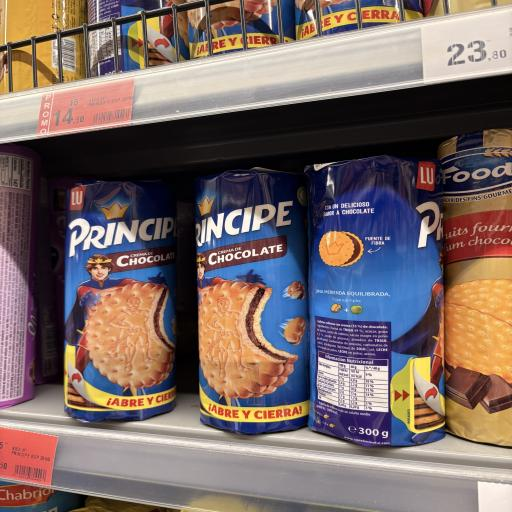prince: (167, 157, 240, 461)
